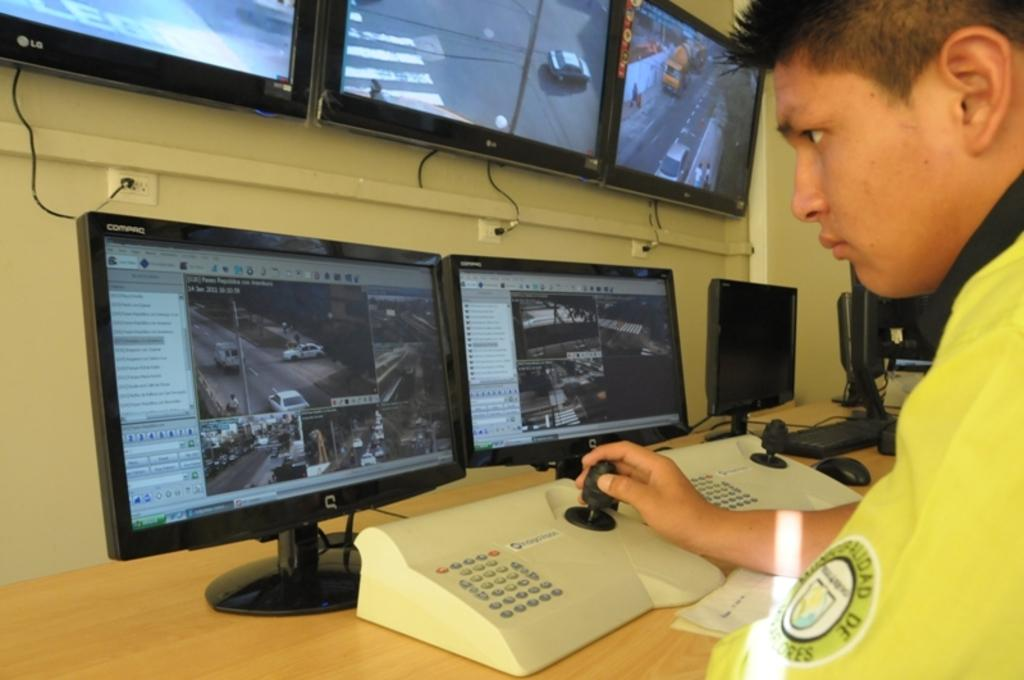Computer-monitor: (67, 210, 486, 606), (452, 260, 684, 478), (714, 275, 796, 415), (856, 278, 954, 356)
